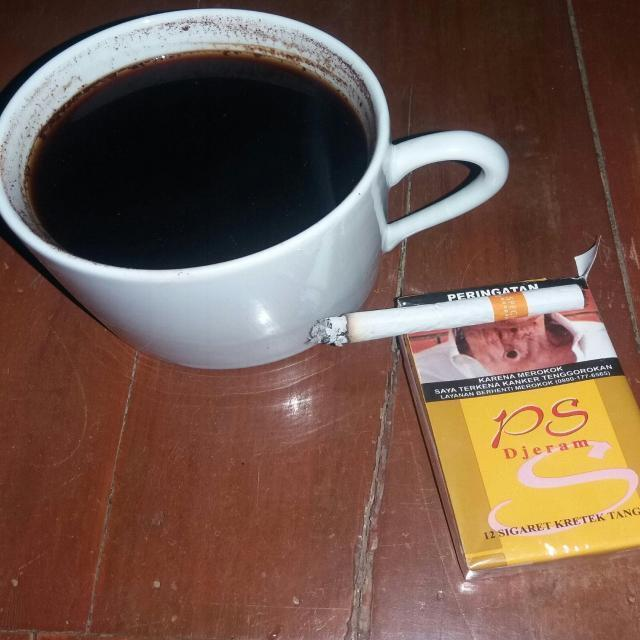rokok: (306, 278, 582, 344)
